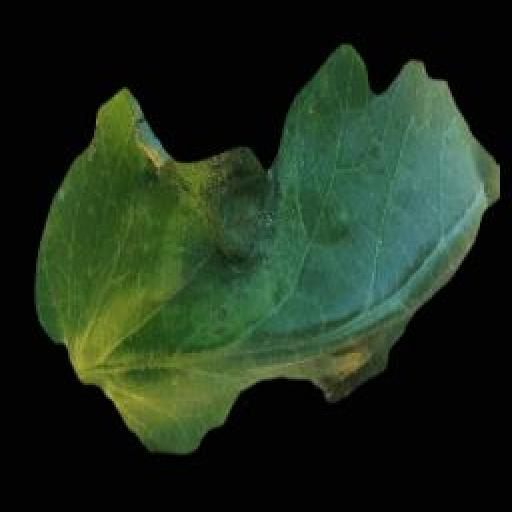disease_tomato: (35, 41, 501, 455)
